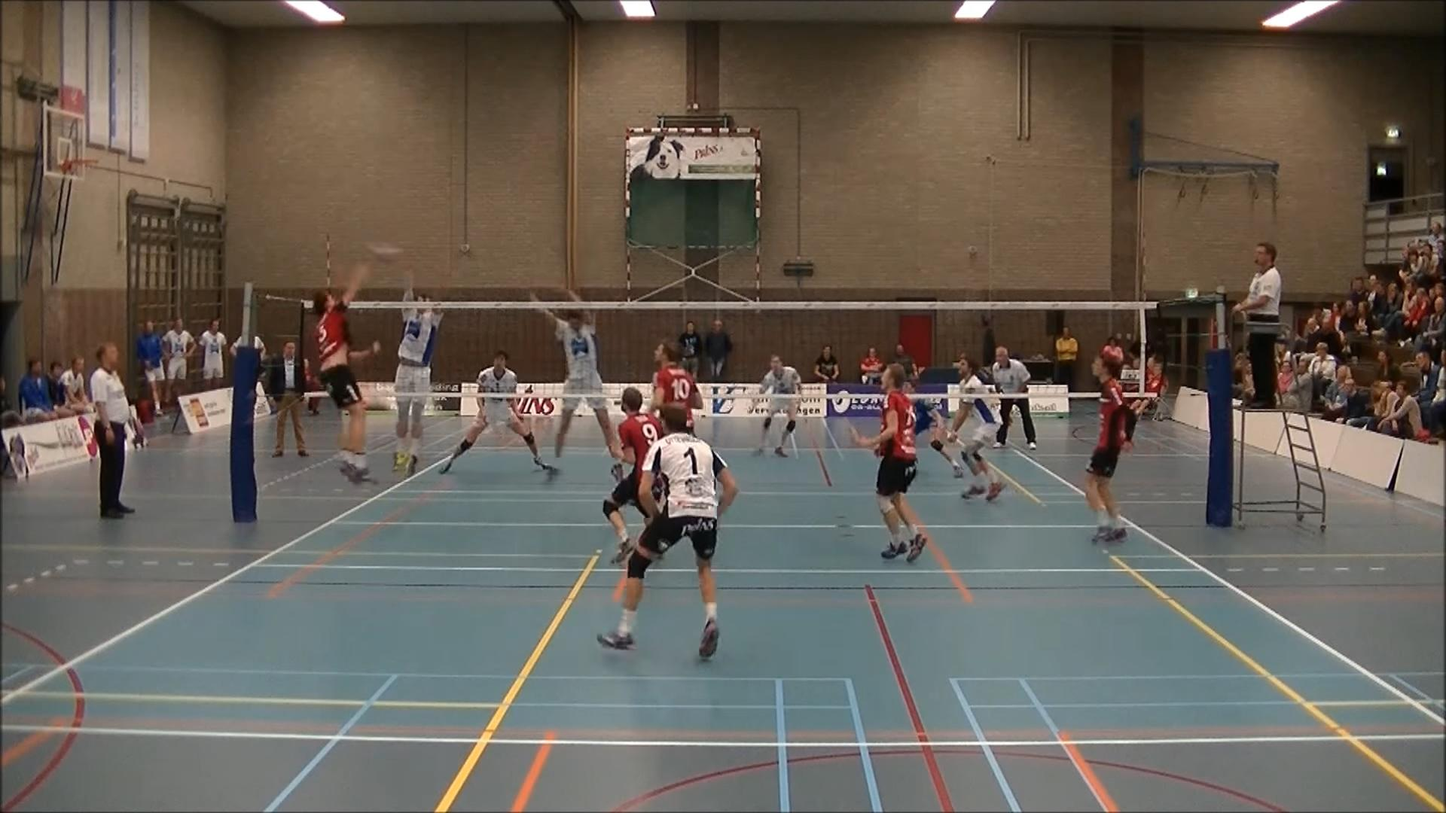Attack: (281, 258, 399, 487)
Block: (517, 277, 629, 484), (386, 252, 458, 490)
Player: (598, 404, 737, 658), (850, 364, 927, 562), (440, 351, 557, 477), (603, 388, 662, 564), (1084, 354, 1136, 544), (947, 358, 1002, 501), (905, 382, 962, 478), (755, 355, 801, 456), (651, 343, 702, 431)
